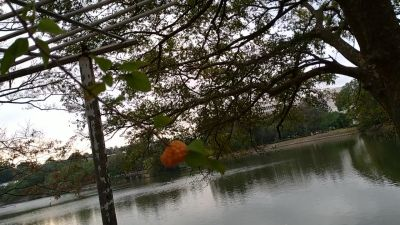eggs: (160, 138, 188, 169)
